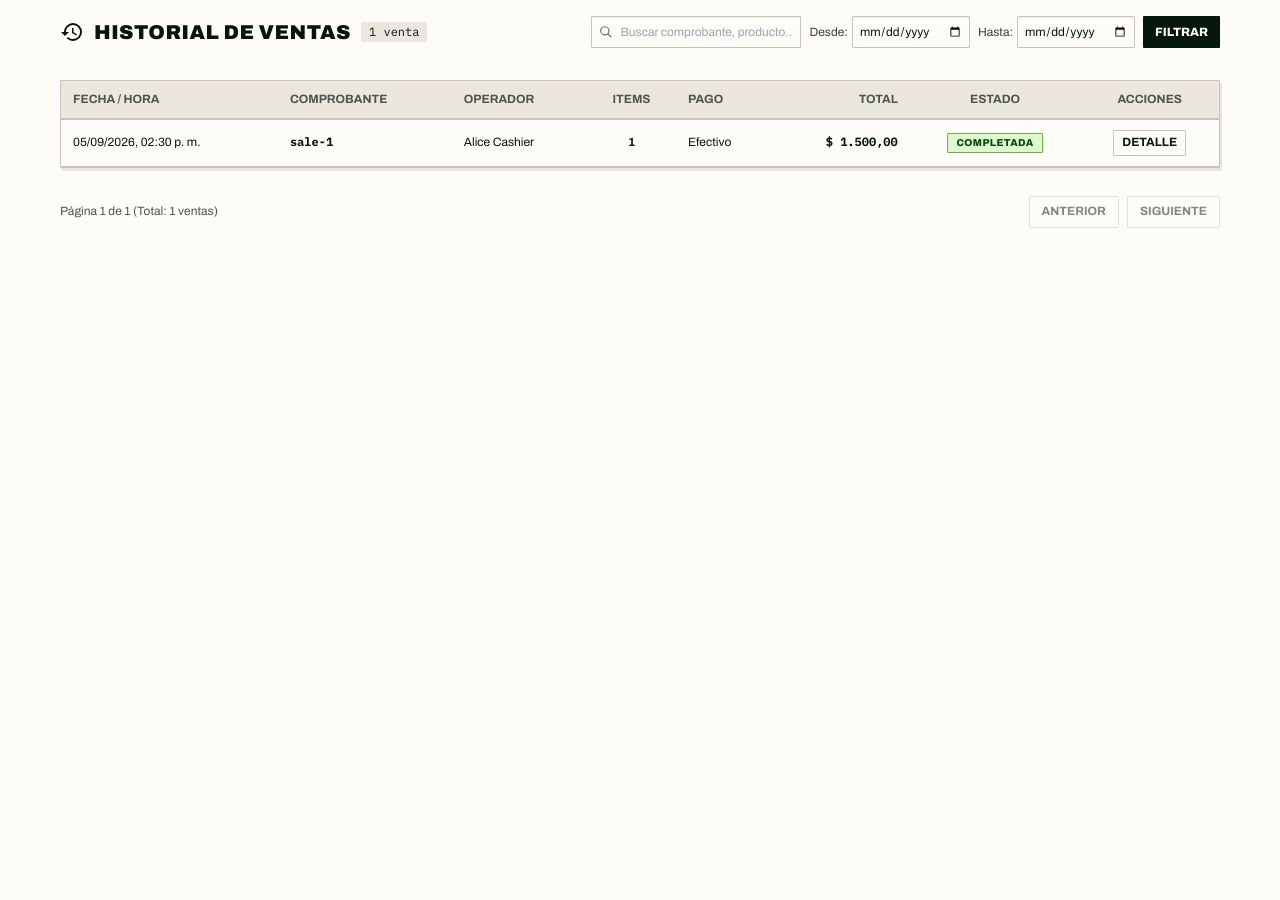
Scenario: SalesHistoryScreen › disables returns when no quantity remains eligible
The image size is (1280, 900).
Click the button "DETALLE": (1150, 143) [1113,130,1186,156]
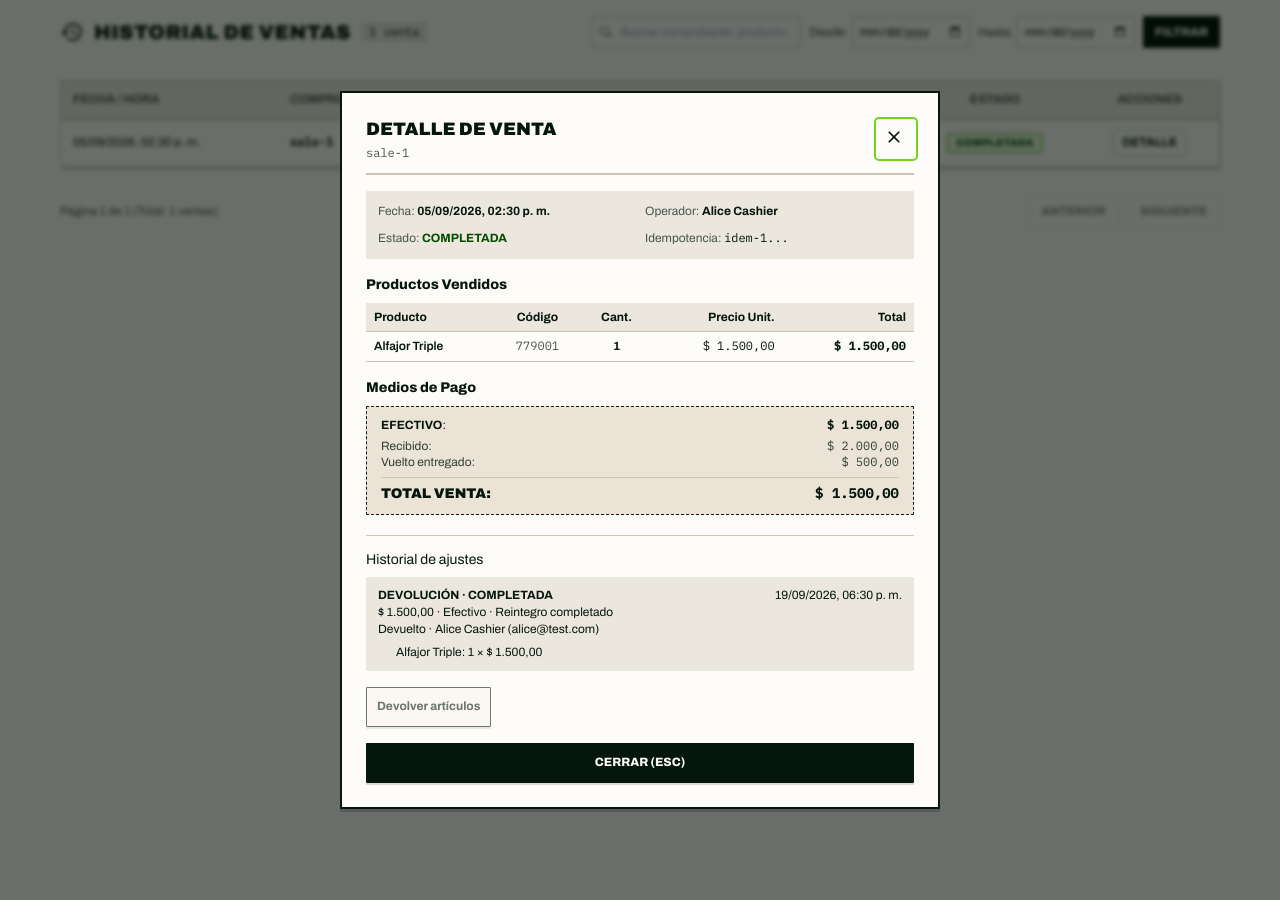
Expected: the button "Devolver artículos" is disabled, [366,687,491,727]
